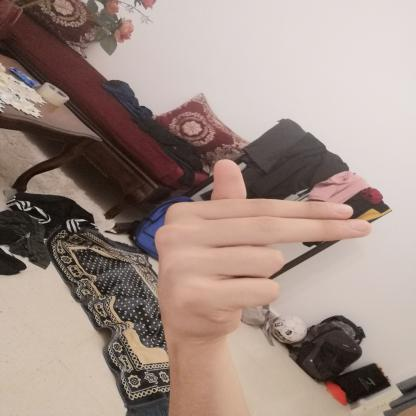GHAYN: (138, 150, 388, 350)
